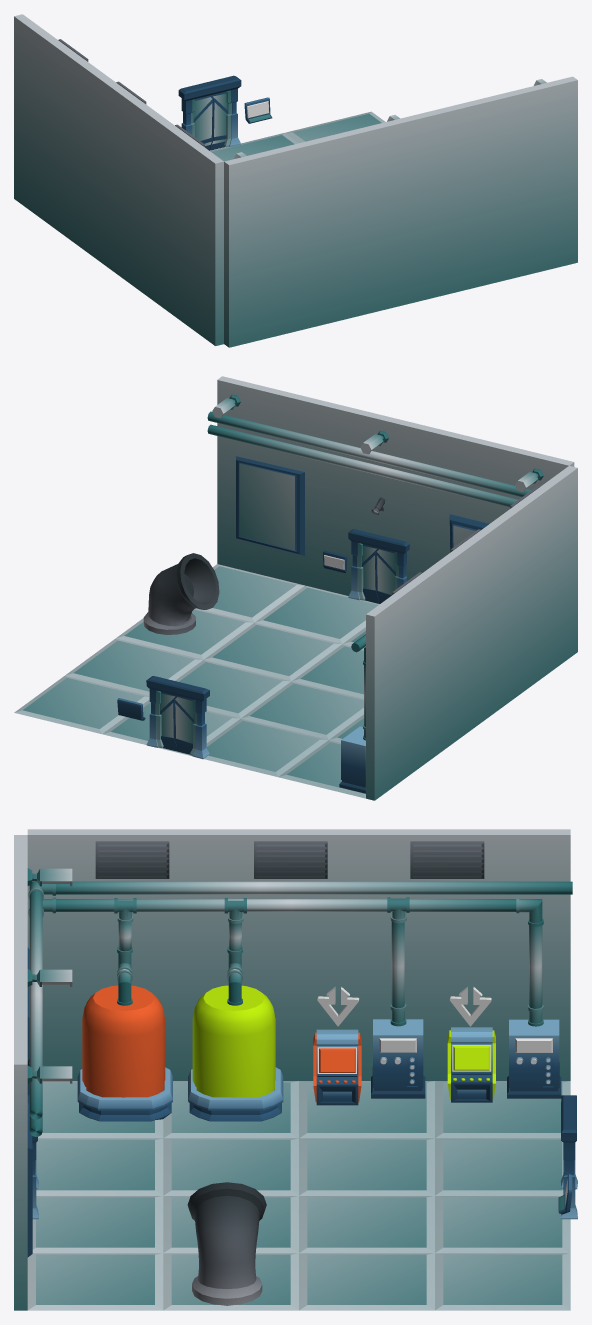
File: Lobby_VF.fbx
3 views of the same model, one above another, from view 1: azimuth 30°, elevation 25°; view 2: azimuth 150°, elevation 25°; view 3: azimuth 270°, elevation 25° (orthographic). The views are drawn at different scales.
Visible parts, largest first — view 1: Parede_Frontal, Parede_Frontal.001, Suelo, Marco_Puerta.004, Puerta_1.004, Puerta_2.004, Computadora; view 2: Suelo, Parede_Frontal.001, Parede_Frontal, Cube.066, Elbow Joint, Cylinder.072, Cylinder.076, Marco_Puerta.004, Marco_Puerta.005, Maquina_1.001, Puerta_1.004, Puerta_1.005 (+3 smaller); view 3: Suelo, Parede_Frontal.001, Cylinder.080, Cylinder.074, Elbow Joint, Cylinder.071, Parede_Frontal, Cylinder.075, Maquina_1, Maquina_1.001, Compu_N, Compu_V (+15 smaller).
Boxes of the visible parts, x1,y1,x2,y2 form: Parede_Frontal: (224,76,577,347); Parede_Frontal.001: (14,14,223,345); Suelo: (210,111,385,161); Marco_Puerta.004: (178,75,241,147); Puerta_1.004: (193,95,213,150); Puerta_2.004: (210,91,227,150); Computadora: (244,97,272,123); Suelo: (14,564,379,798); Parede_Frontal.001: (366,466,577,800); Parede_Frontal: (217,376,574,595); Cube.066: (236,456,304,555); Elbow Joint: (143,553,219,634); Cylinder.072: (207,411,531,497); Cylinder.076: (207,424,518,507); Marco_Puerta.004: (146,676,209,759); Marco_Puerta.005: (348,529,409,600); Maquina_1.001: (339,726,365,793); Puerta_1.004: (174,695,194,754); Puerta_1.005: (376,548,395,603); Suelo: (27,1081,570,1310); Parede_Frontal.001: (27,829,570,1080); Cylinder.080: (192,985,275,1097); Cylinder.074: (82,985,165,1097); Elbow Joint: (187,1182,266,1305); Cylinder.071: (56,881,572,894); Parede_Frontal: (14,835,27,1310); Cylinder.075: (56,899,526,911); Maquina_1: (371,1019,425,1098); Maquina_1.001: (507,1019,561,1098); Compu_N: (313,1029,361,1105); Compu_V: (447,1027,495,1102).
Bounding box in the file's own units: 20.72 × 10.13 × 20.77.
